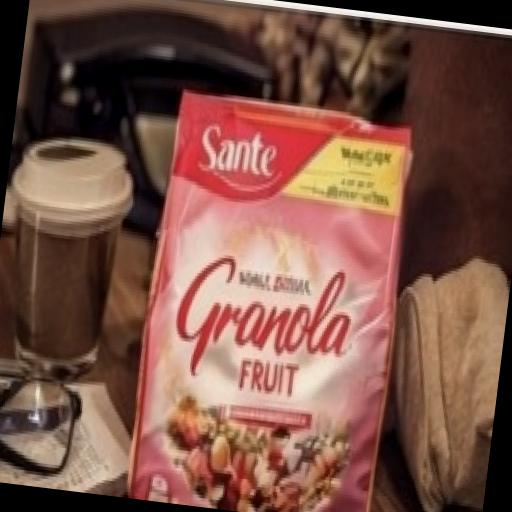granola: (89, 39, 449, 512)
